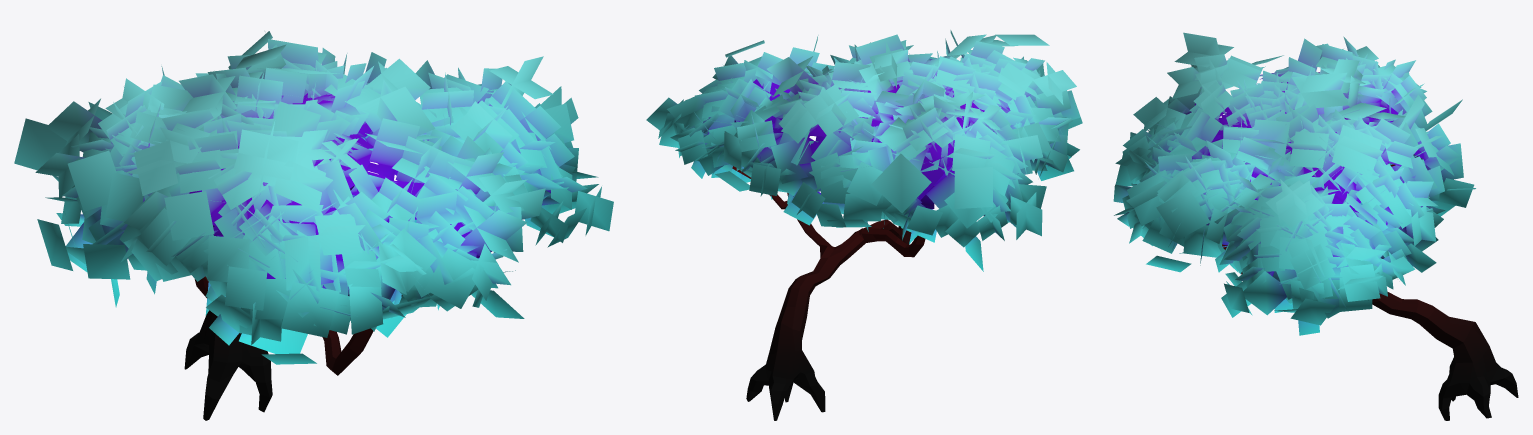
The model's file is SM_Env_Tree_Pohutukawa_04.gltf.
3 views of the same model, side by side, from view 1: azimuth 30°, elevation 25°; view 2: azimuth 150°, elevation 25°; view 3: azimuth 270°, elevation 25° (orthographic). The views are drawn at different scales.
Visible parts, largest first — view 1: SM_Env_Tree_Pohutukawa_04_LOD0; view 2: SM_Env_Tree_Pohutukawa_04_LOD0; view 3: SM_Env_Tree_Pohutukawa_04_LOD0.
Part boxes in pixels (x1=…): SM_Env_Tree_Pohutukawa_04_LOD0: x1=14, y1=31, x2=613, y2=420; SM_Env_Tree_Pohutukawa_04_LOD0: x1=646, y1=30, x2=1082, y2=420; SM_Env_Tree_Pohutukawa_04_LOD0: x1=1113, y1=32, x2=1518, y2=420.
Bounding box in the file's own units: 4.92 × 3.97 × 4.32.
